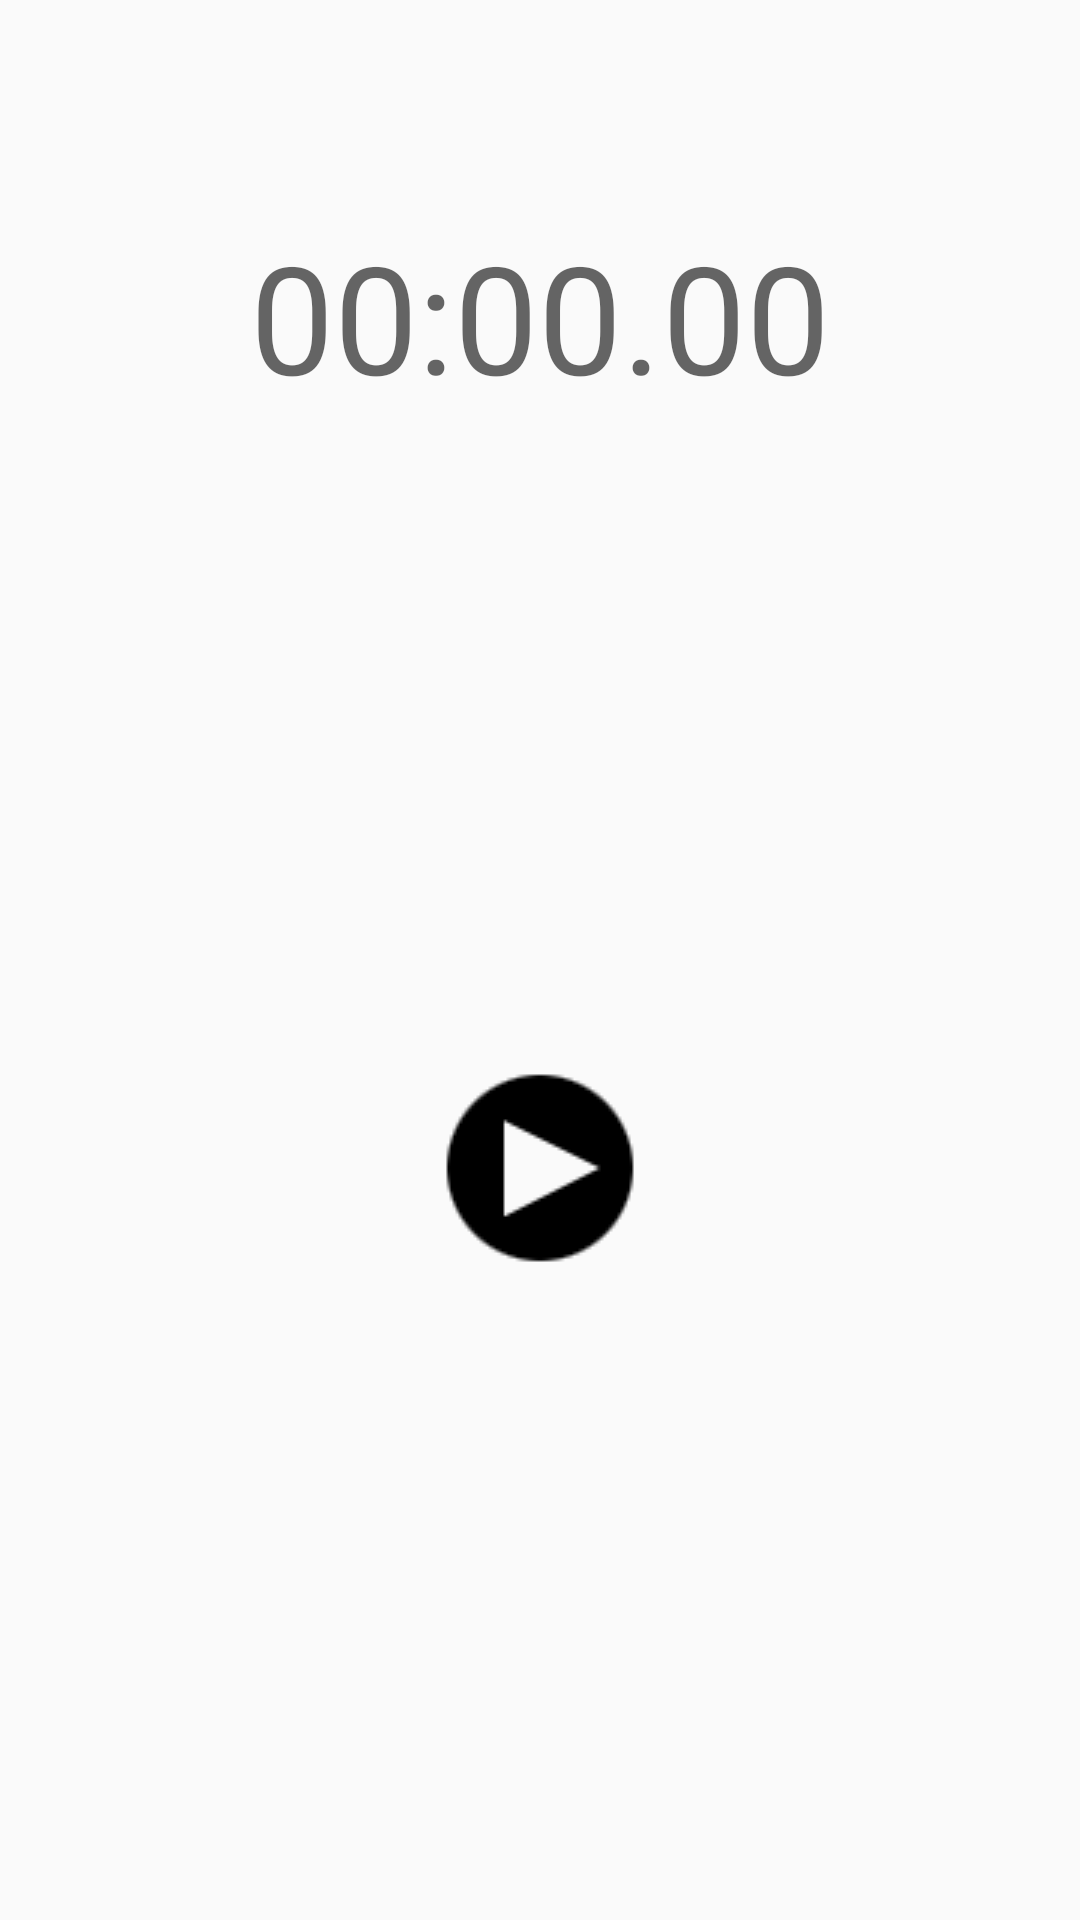

Icons on this 1080x1920 Android screen, each with its box as bbox=(x1, y1, x2, y2):
play: bbox=(446, 1074, 634, 1262)
